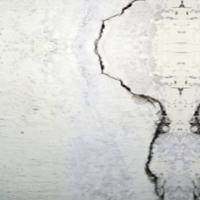crack: (85, 0, 180, 199)
